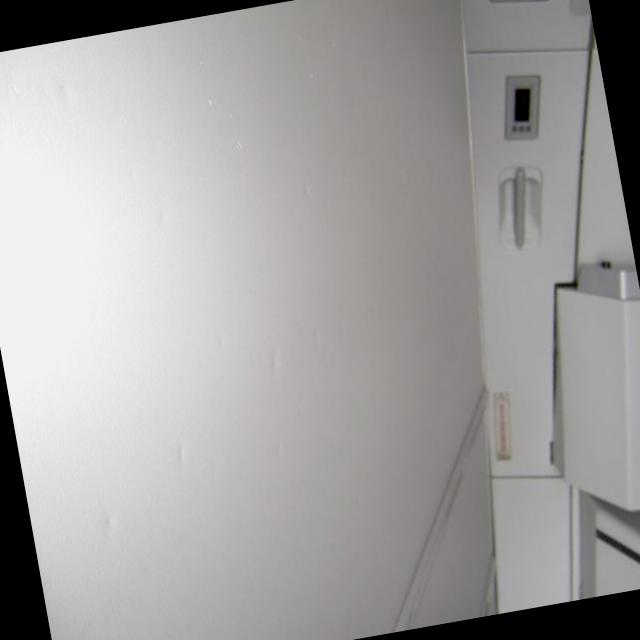dent: (288, 173, 322, 204), (209, 324, 237, 358), (312, 326, 336, 361), (264, 350, 288, 374), (152, 201, 174, 226), (100, 508, 120, 534), (54, 81, 72, 109), (3, 77, 24, 101), (362, 305, 378, 327), (274, 439, 286, 458), (172, 446, 186, 462)
